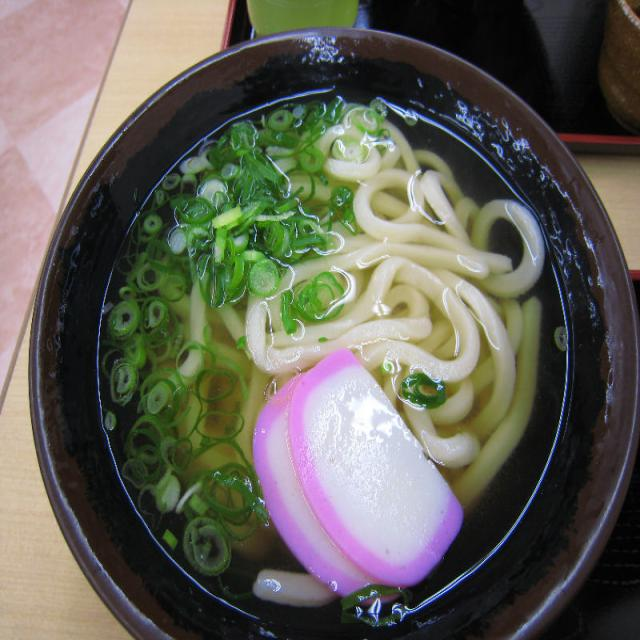面条主食: (87, 24, 589, 640)
